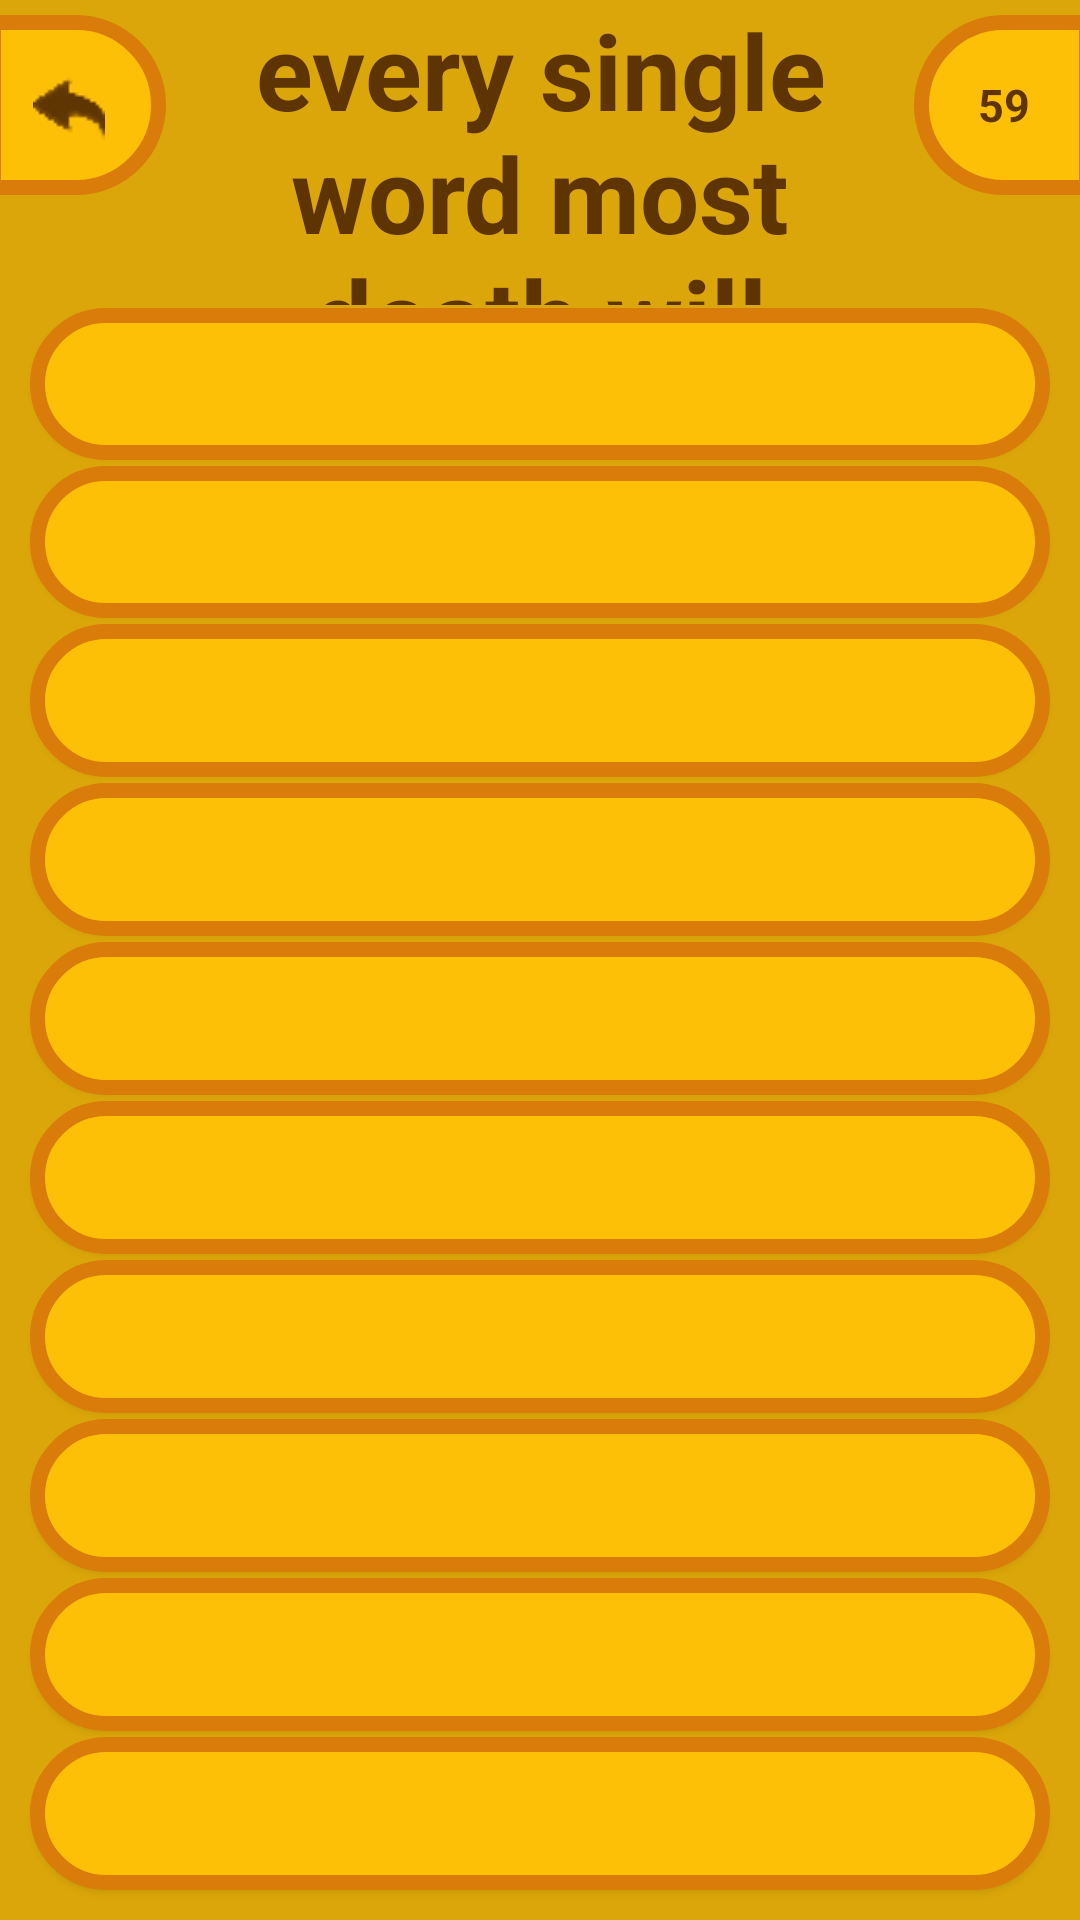

Where to tap for icons on this 1080 x 1920 app screen, as [x,y]:
back arrow: [83,105]
